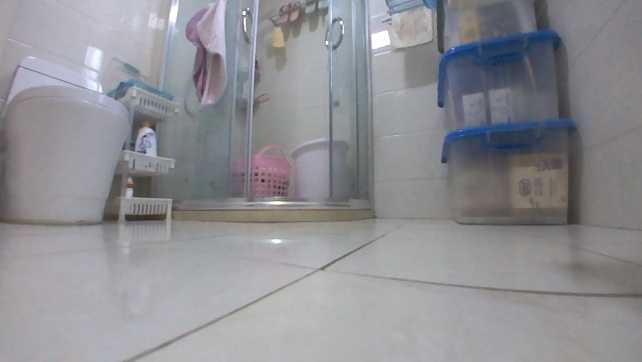door_sill: (169, 195, 371, 224)
toilet: (1, 53, 130, 225)
